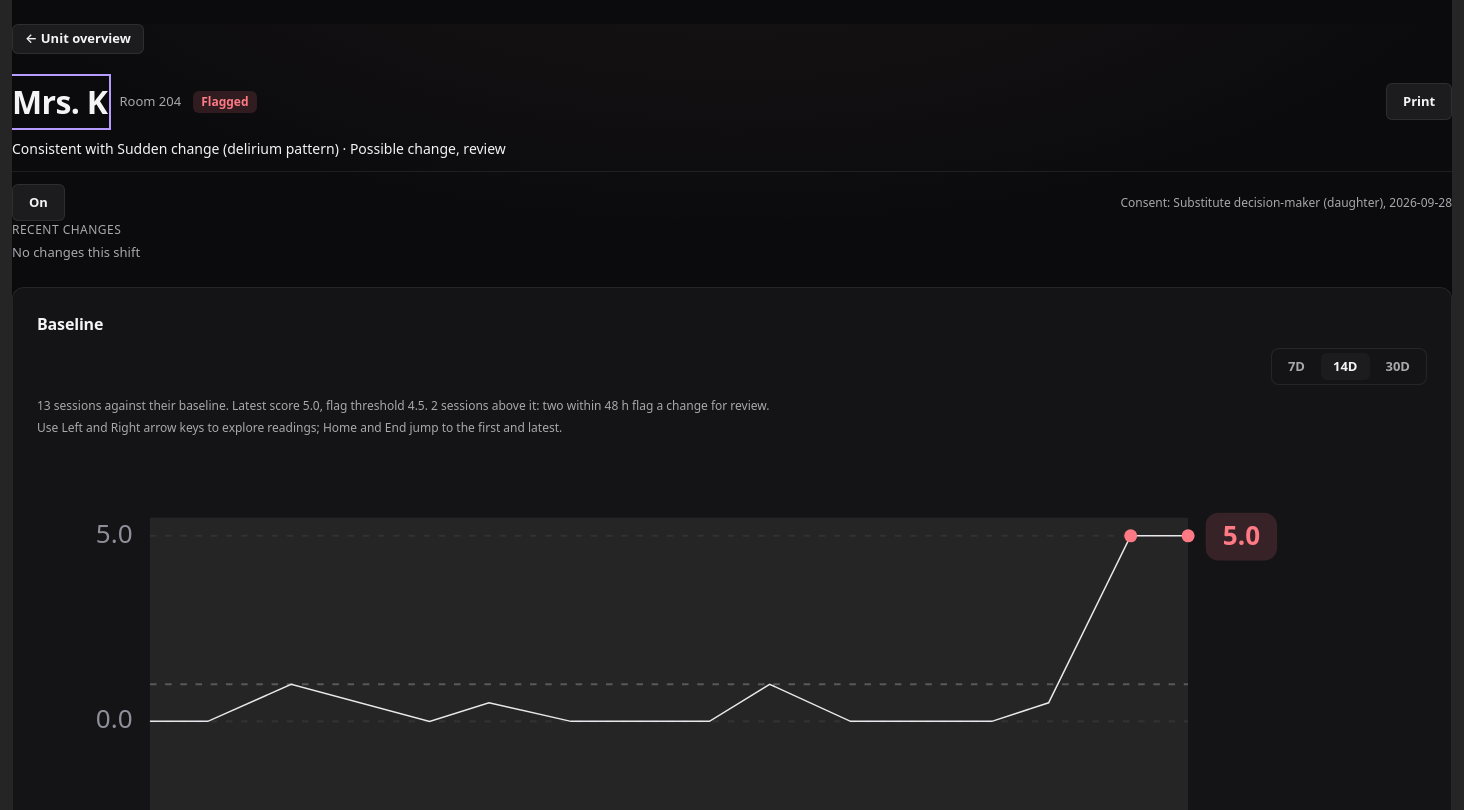
Test: ResidentDetail monitoring switch (T243) › sends a PUT when the nurse toggles monitoring
Click the switch named "Monitoring in room 204". click: coordinates (38, 202)
box: [12,184,65,221]
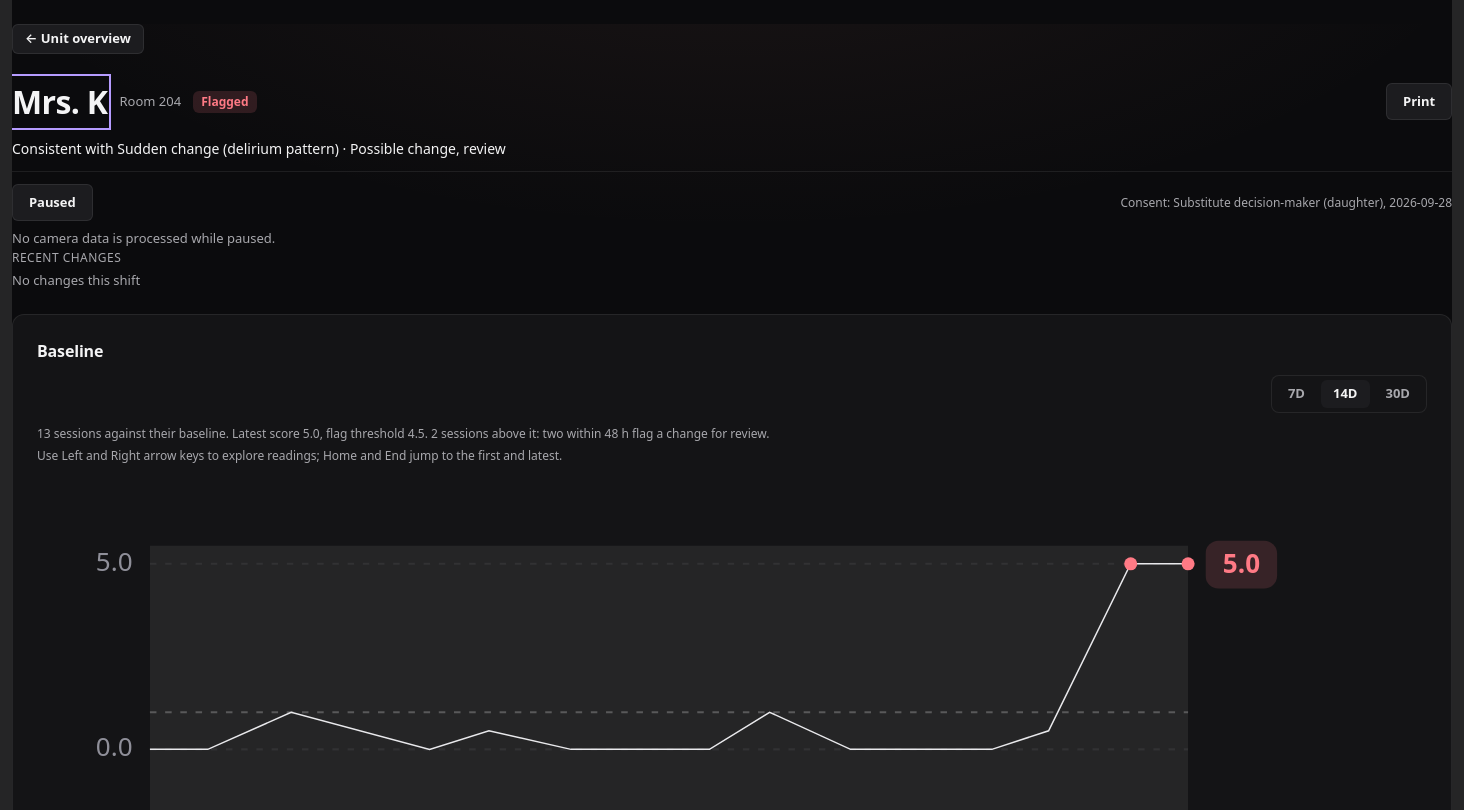
Result: the switch named "Monitoring in room 204" reads "Paused" at [12,184,92,221]
